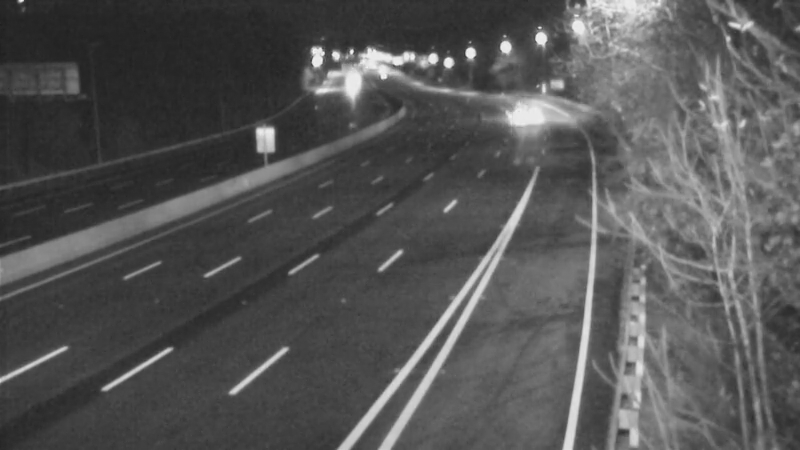vehicle: (497, 89, 547, 139), (324, 61, 374, 111)
